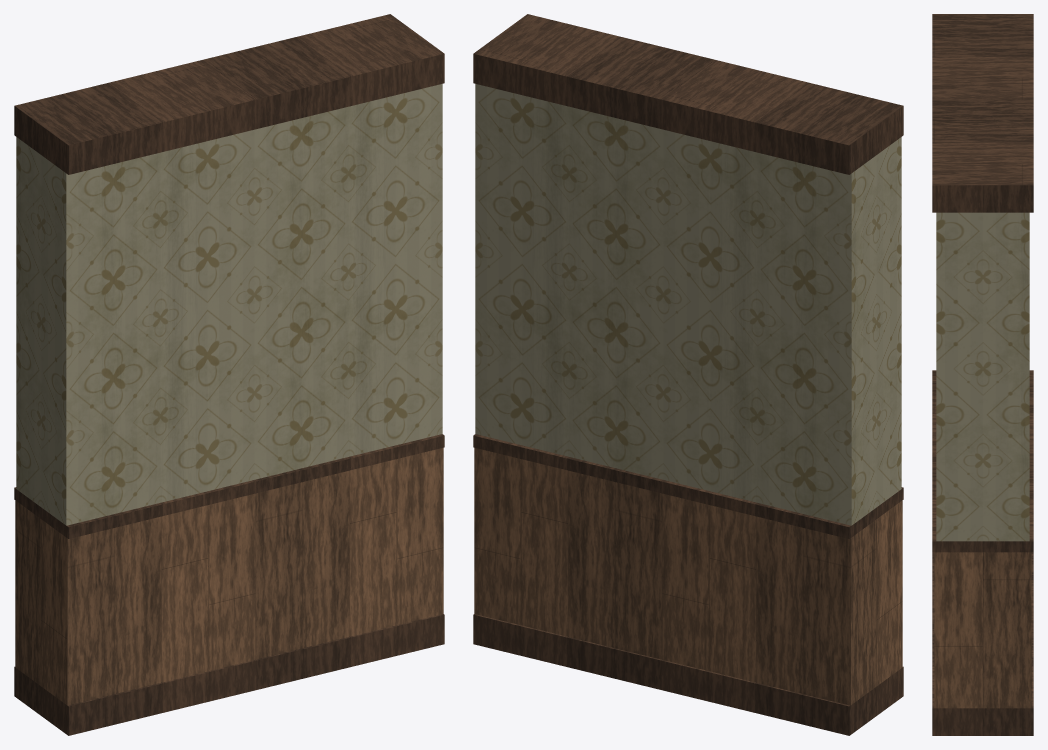
Rendered from EST_MuroEstandar.fbx.
3 renders of one model, left to right at view 1: azimuth 30°, elevation 25°; view 2: azimuth 150°, elevation 25°; view 3: azimuth 270°, elevation 25°, orthographic. The views are drawn at different scales.
Parts seen in each view (by area): view 1: EST_MuroEstandar; view 2: EST_MuroEstandar; view 3: EST_MuroEstandar.
Part boxes in pixels (left/top/right/bottom): EST_MuroEstandar: left=14, top=14, right=444, bottom=735; EST_MuroEstandar: left=473, top=14, right=903, bottom=735; EST_MuroEstandar: left=932, top=14, right=1033, bottom=735.
Size of the model in its own units: 2 by 3 by 0.5.
